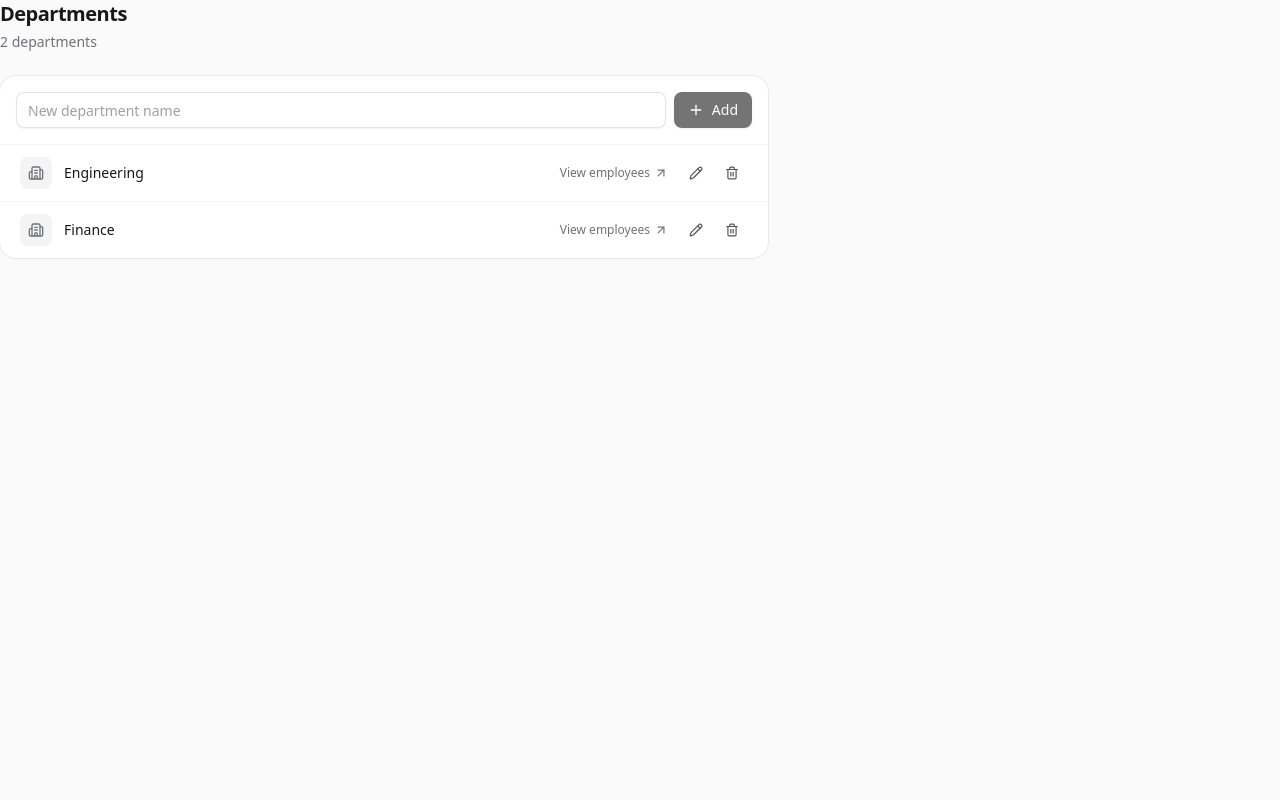
it: DepartmentsPage › explains why a department in use can't be deleted
Click the button named "Delete Engineering". click: {"x": 732, "y": 173}
box: [716,157,748,189]
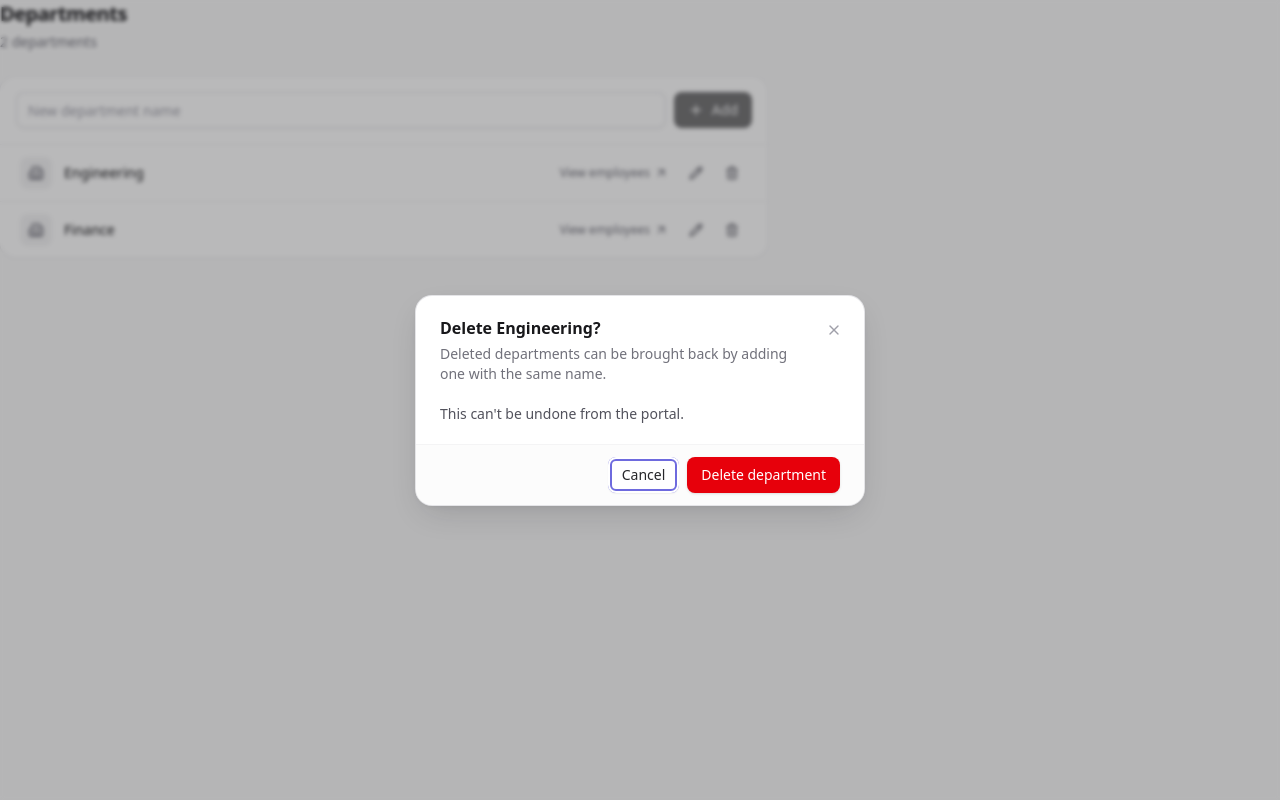
Click the button "Delete department". click: {"x": 764, "y": 474}
box: [687,456,840,492]
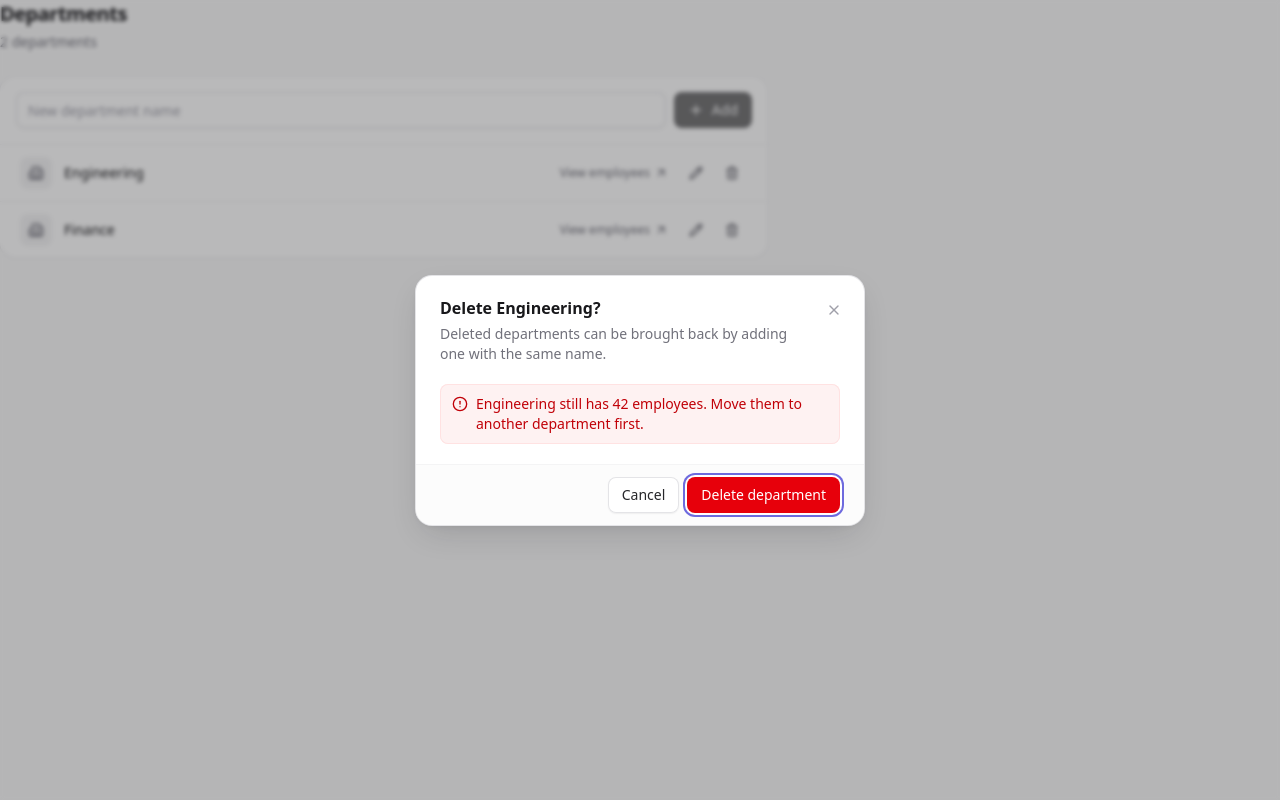
Expected: the message shows "42 employees", [476,394,802,432]
